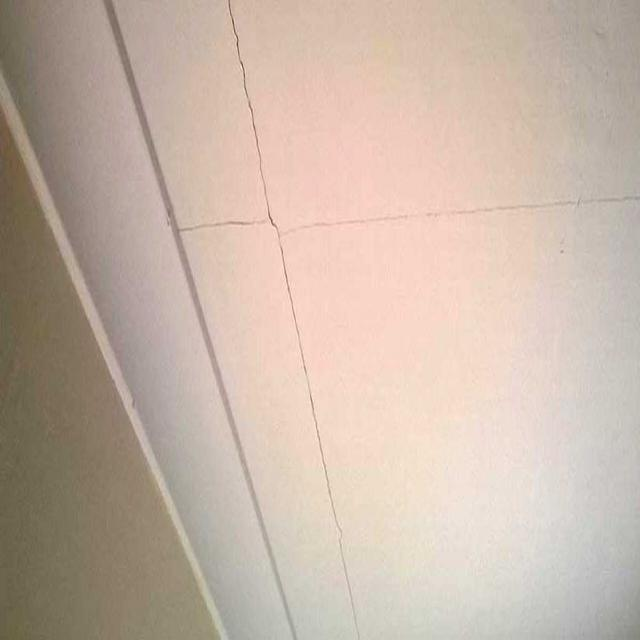Crack: (269, 222, 362, 640), (277, 194, 640, 241), (225, 0, 274, 222), (171, 217, 272, 234)
